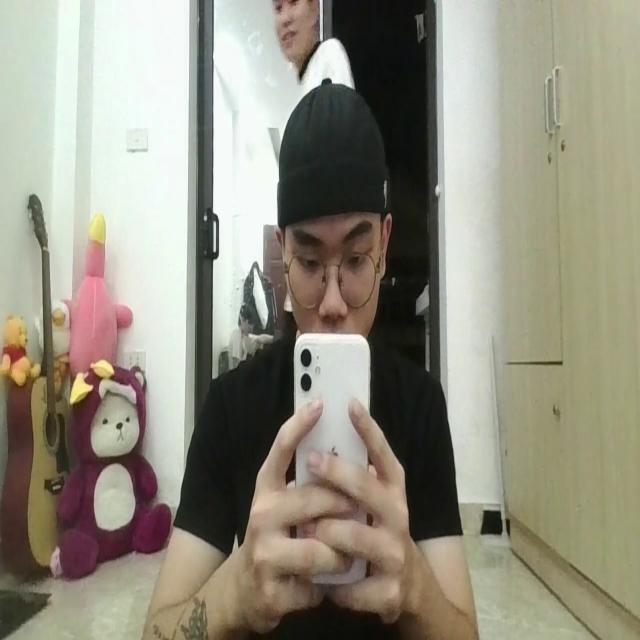extra_person: (258, 0, 356, 101)
phone: (288, 325, 376, 589)
student: (154, 77, 478, 640)
